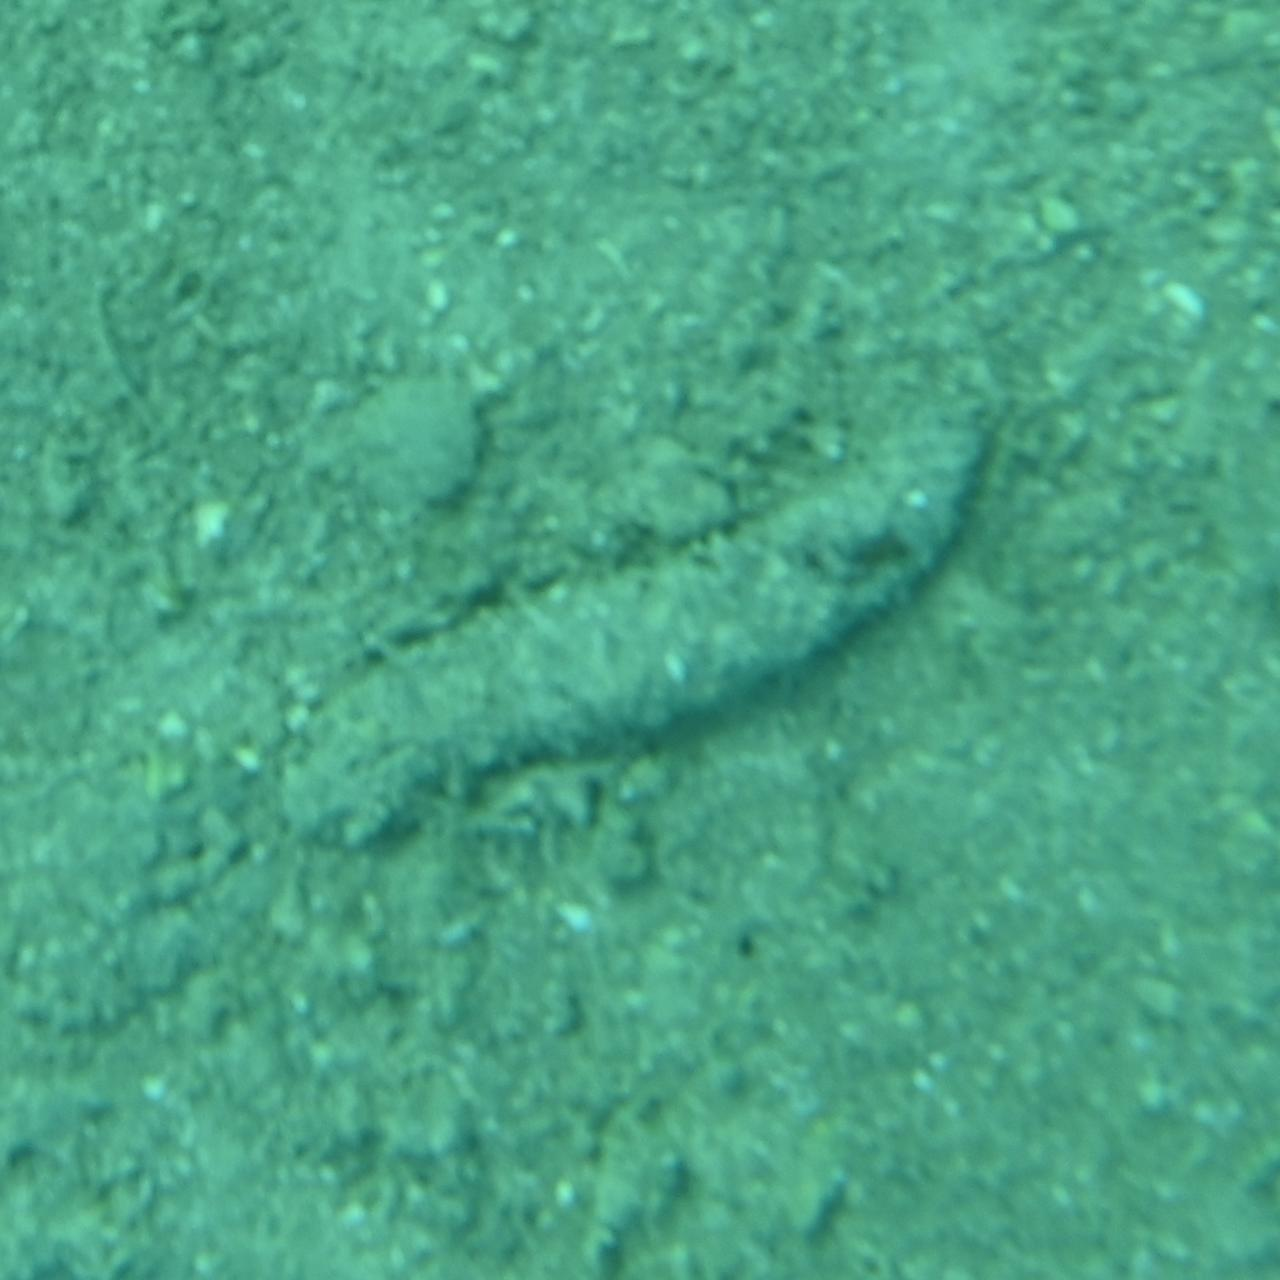Holothuria tubulosa: (264, 404, 1016, 876)
